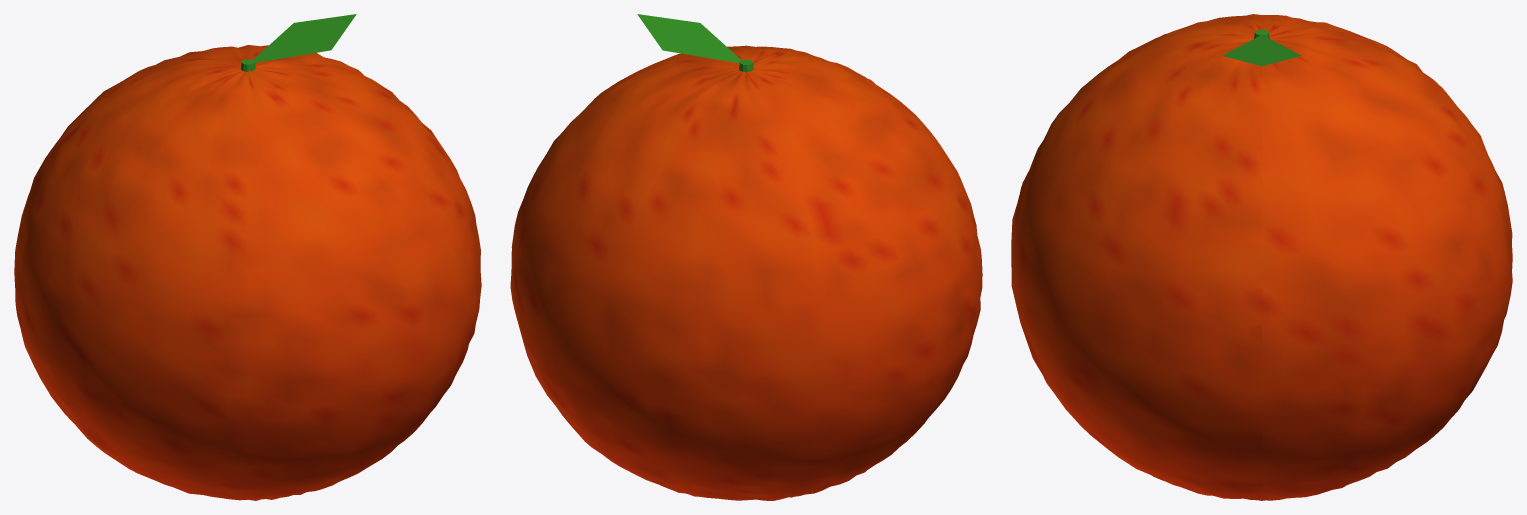
Rendered from orange.glb.
3 views of the same model, side by side, from view 1: azimuth 30°, elevation 25°; view 2: azimuth 150°, elevation 25°; view 3: azimuth 270°, elevation 25° (orthographic). The views are drawn at different scales.
Visible parts, largest first — view 1: entier_peau, moitie_B_peau, moitie_A_peau, entier_extra0; view 2: entier_peau, moitie_A_peau, moitie_B_peau, entier_extra0; view 3: entier_peau, moitie_A_peau, moitie_B_peau, entier_extra0.
Boxes of the visible parts, x1,y1,x2,y2 form: entier_peau: [14, 45, 481, 500]; moitie_B_peau: [47, 62, 481, 499]; moitie_A_peau: [14, 45, 389, 422]; entier_extra0: [241, 14, 356, 71]; entier_peau: [510, 45, 982, 500]; moitie_A_peau: [510, 62, 948, 500]; moitie_B_peau: [603, 46, 982, 441]; entier_extra0: [637, 14, 753, 72]; entier_peau: [1011, 14, 1512, 500]; moitie_A_peau: [1262, 16, 1512, 500]; moitie_B_peau: [1011, 14, 1261, 500]; entier_extra0: [1222, 29, 1301, 66].
Size of the model in its own units: 2 by 2.05 by 2.
